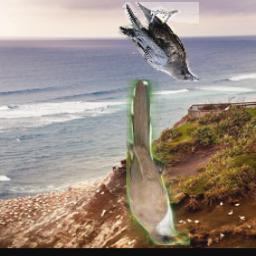Crow: (118, 3, 199, 82)
Cuckoo: (127, 80, 191, 246)
